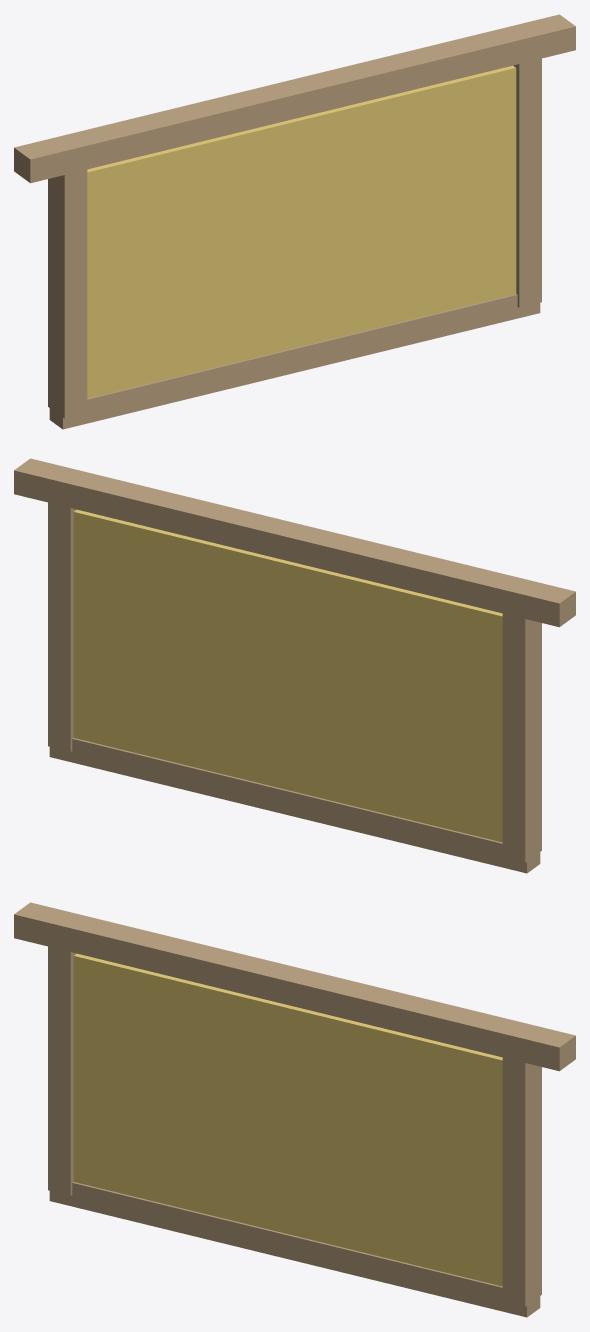
File: prop-frame-comb.fbx
3 views of the same model, one above another, from view 1: azimuth 30°, elevation 25°; view 2: azimuth 150°, elevation 25°; view 3: azimuth 330°, elevation 25° (orthographic).
Parts seen in each view (by area): view 1: prop-frame-comb; view 2: prop-frame-comb; view 3: prop-frame-comb.
Part boxes in pixels (x1,y1,x2,y2): prop-frame-comb: (14, 14, 575, 429); prop-frame-comb: (14, 458, 575, 873); prop-frame-comb: (14, 902, 575, 1317).
Size of the model in its own units: 48 by 23.5 by 2.5.
